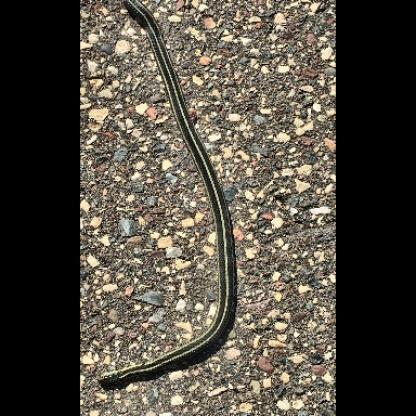Snake: (84, 8, 242, 408)
